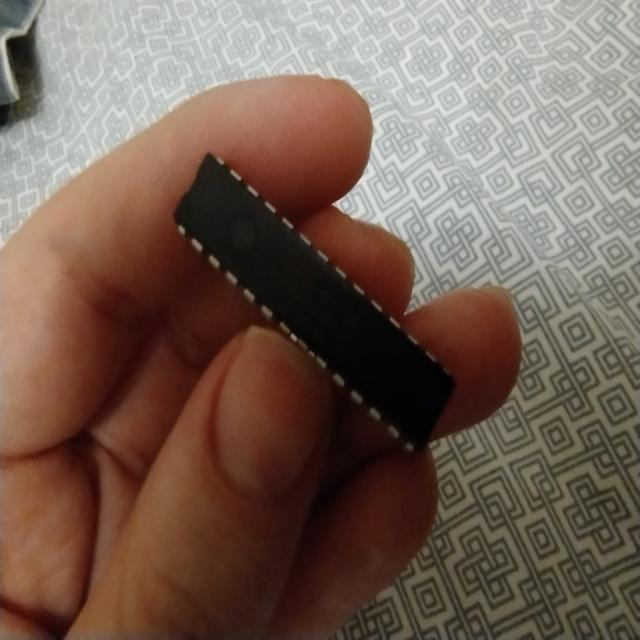atmega: (171, 149, 457, 457)
